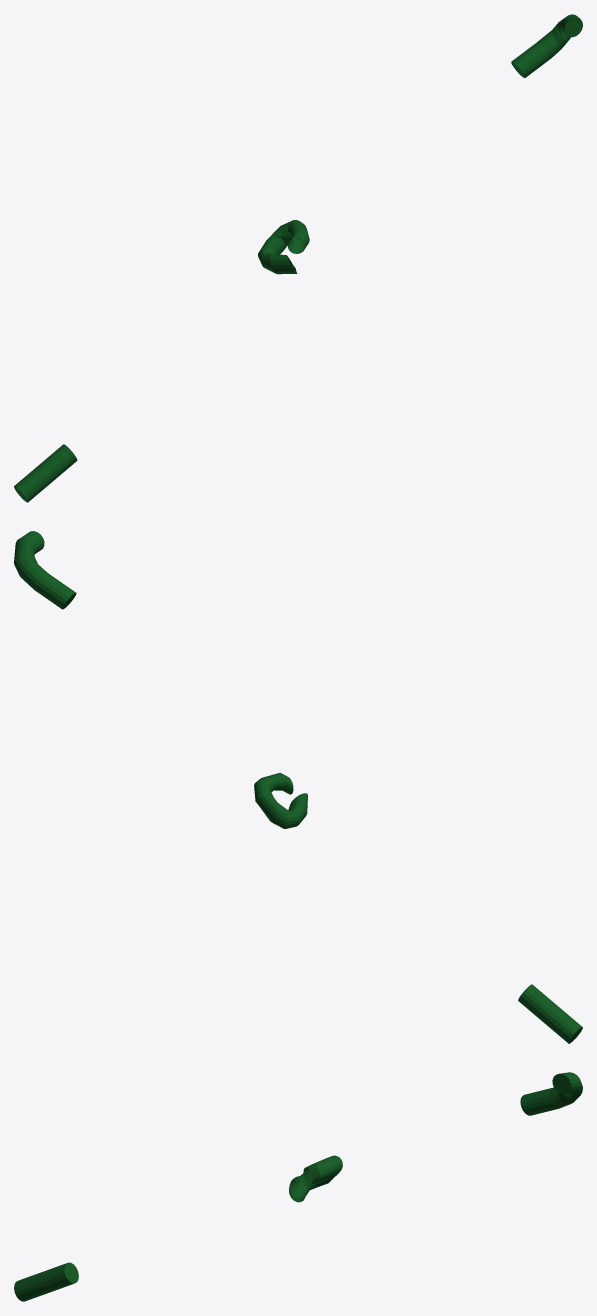
File: Vine_2.fbx
3 renders of one model, top to bottom at view 1: azimuth 30°, elevation 25°; view 2: azimuth 150°, elevation 25°; view 3: azimuth 330°, elevation 25°, orthographic. The views are drawn at different scales.
Parts seen in each view (by area): view 1: SM_Vine_2; view 2: SM_Vine_2; view 3: SM_Vine_2.
Boxes of the visible parts, box(x1,y1,x2,y2) form: SM_Vine_2: box(14, 14, 582, 502); SM_Vine_2: box(14, 531, 582, 1043); SM_Vine_2: box(14, 1072, 582, 1301).
Size of the model in its own units: 5.8 by 3.59 by 0.6434.
